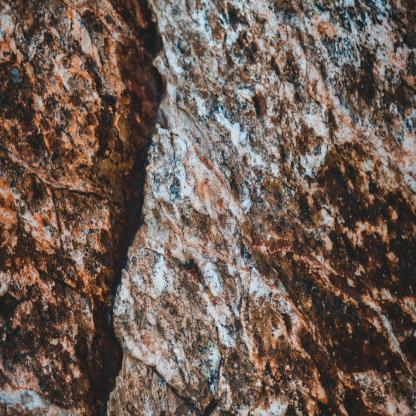Igneous_Granite: (181, 4, 416, 416), (0, 6, 170, 416)
